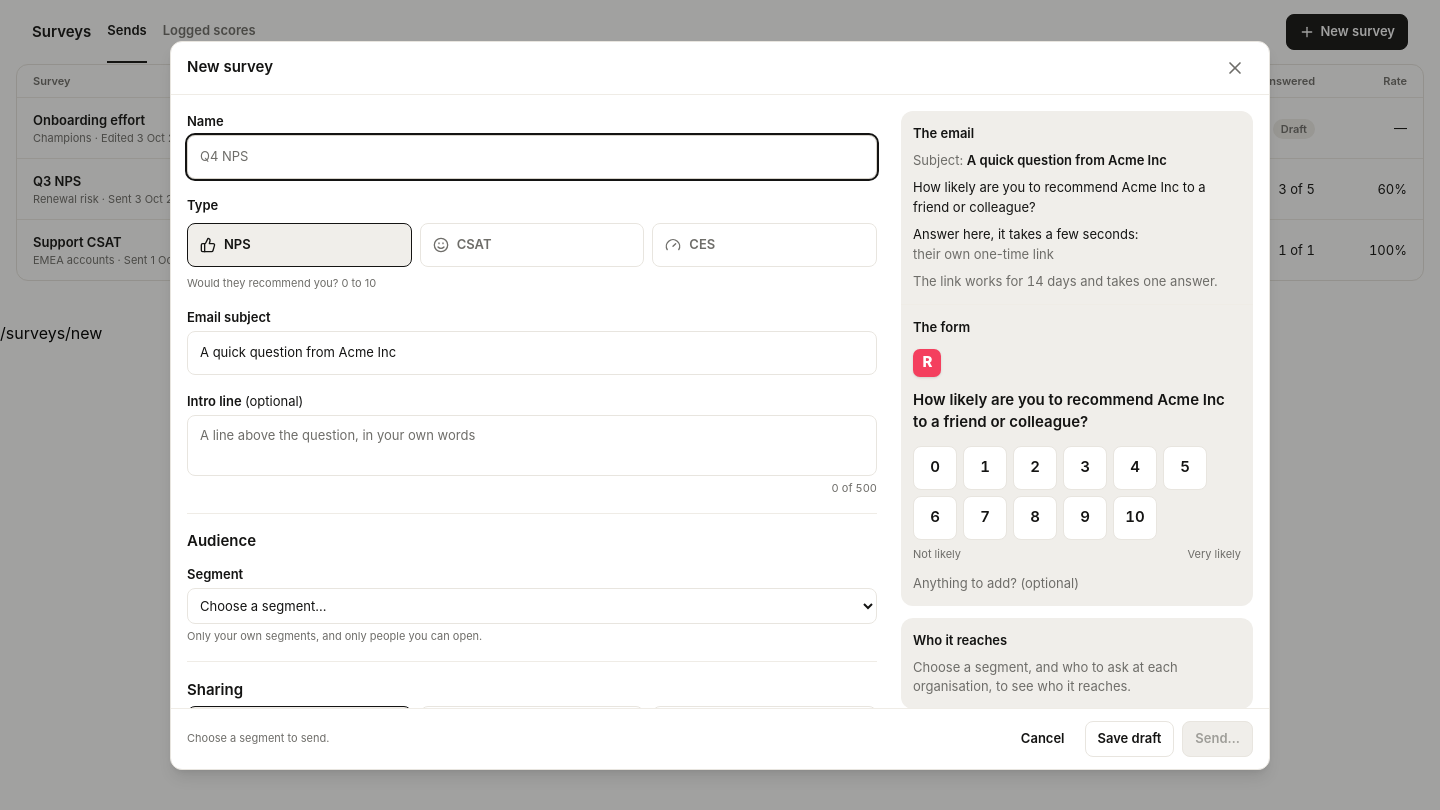
Test: the New survey modal (spec §2.2) › closes on Cancel back to the list
Click the button "Cancel".
click(1043, 738)  # box [1009,720,1077,756]
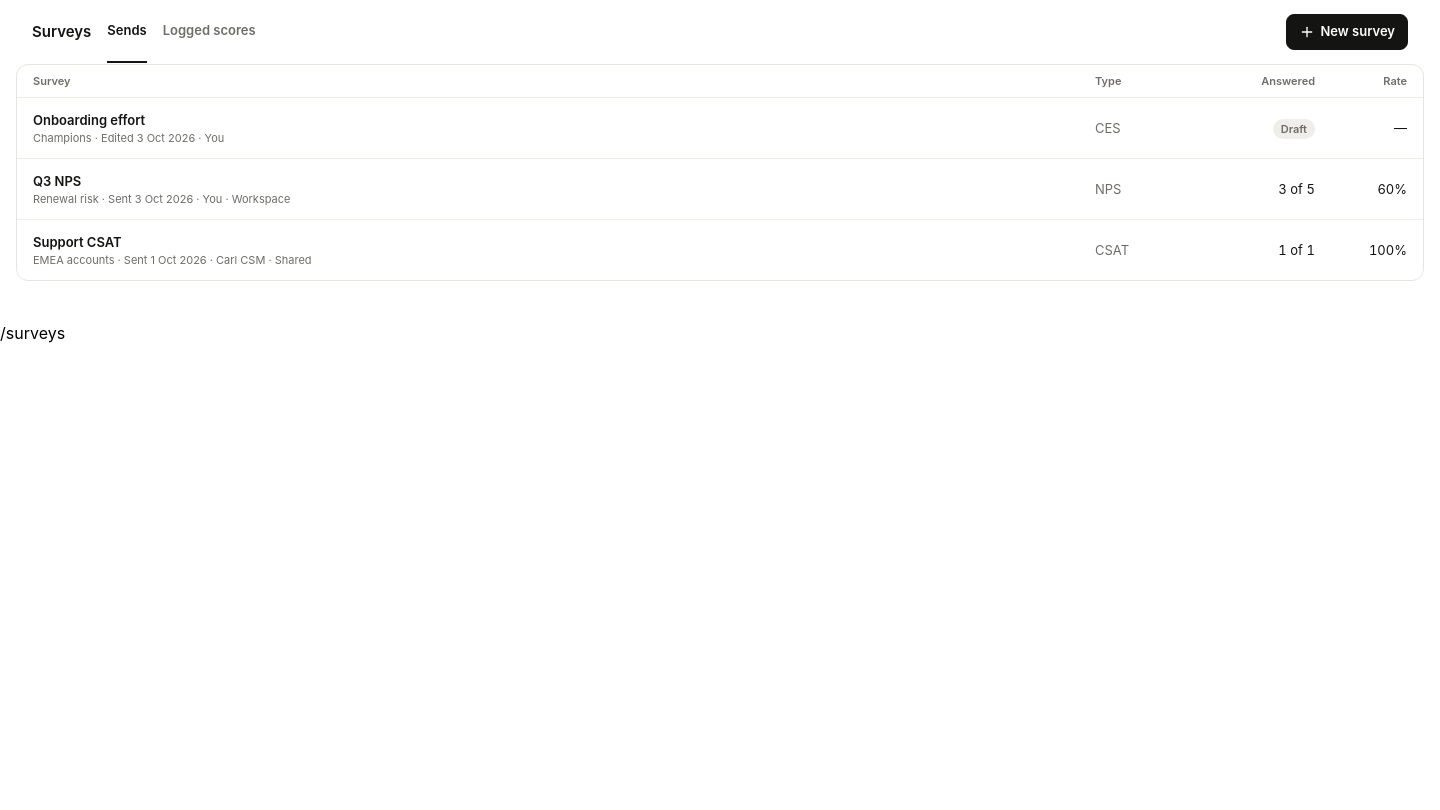
Result: the text with test id "where" reads "/surveys" at [0,323,65,343]
Result: the dialog is gone
